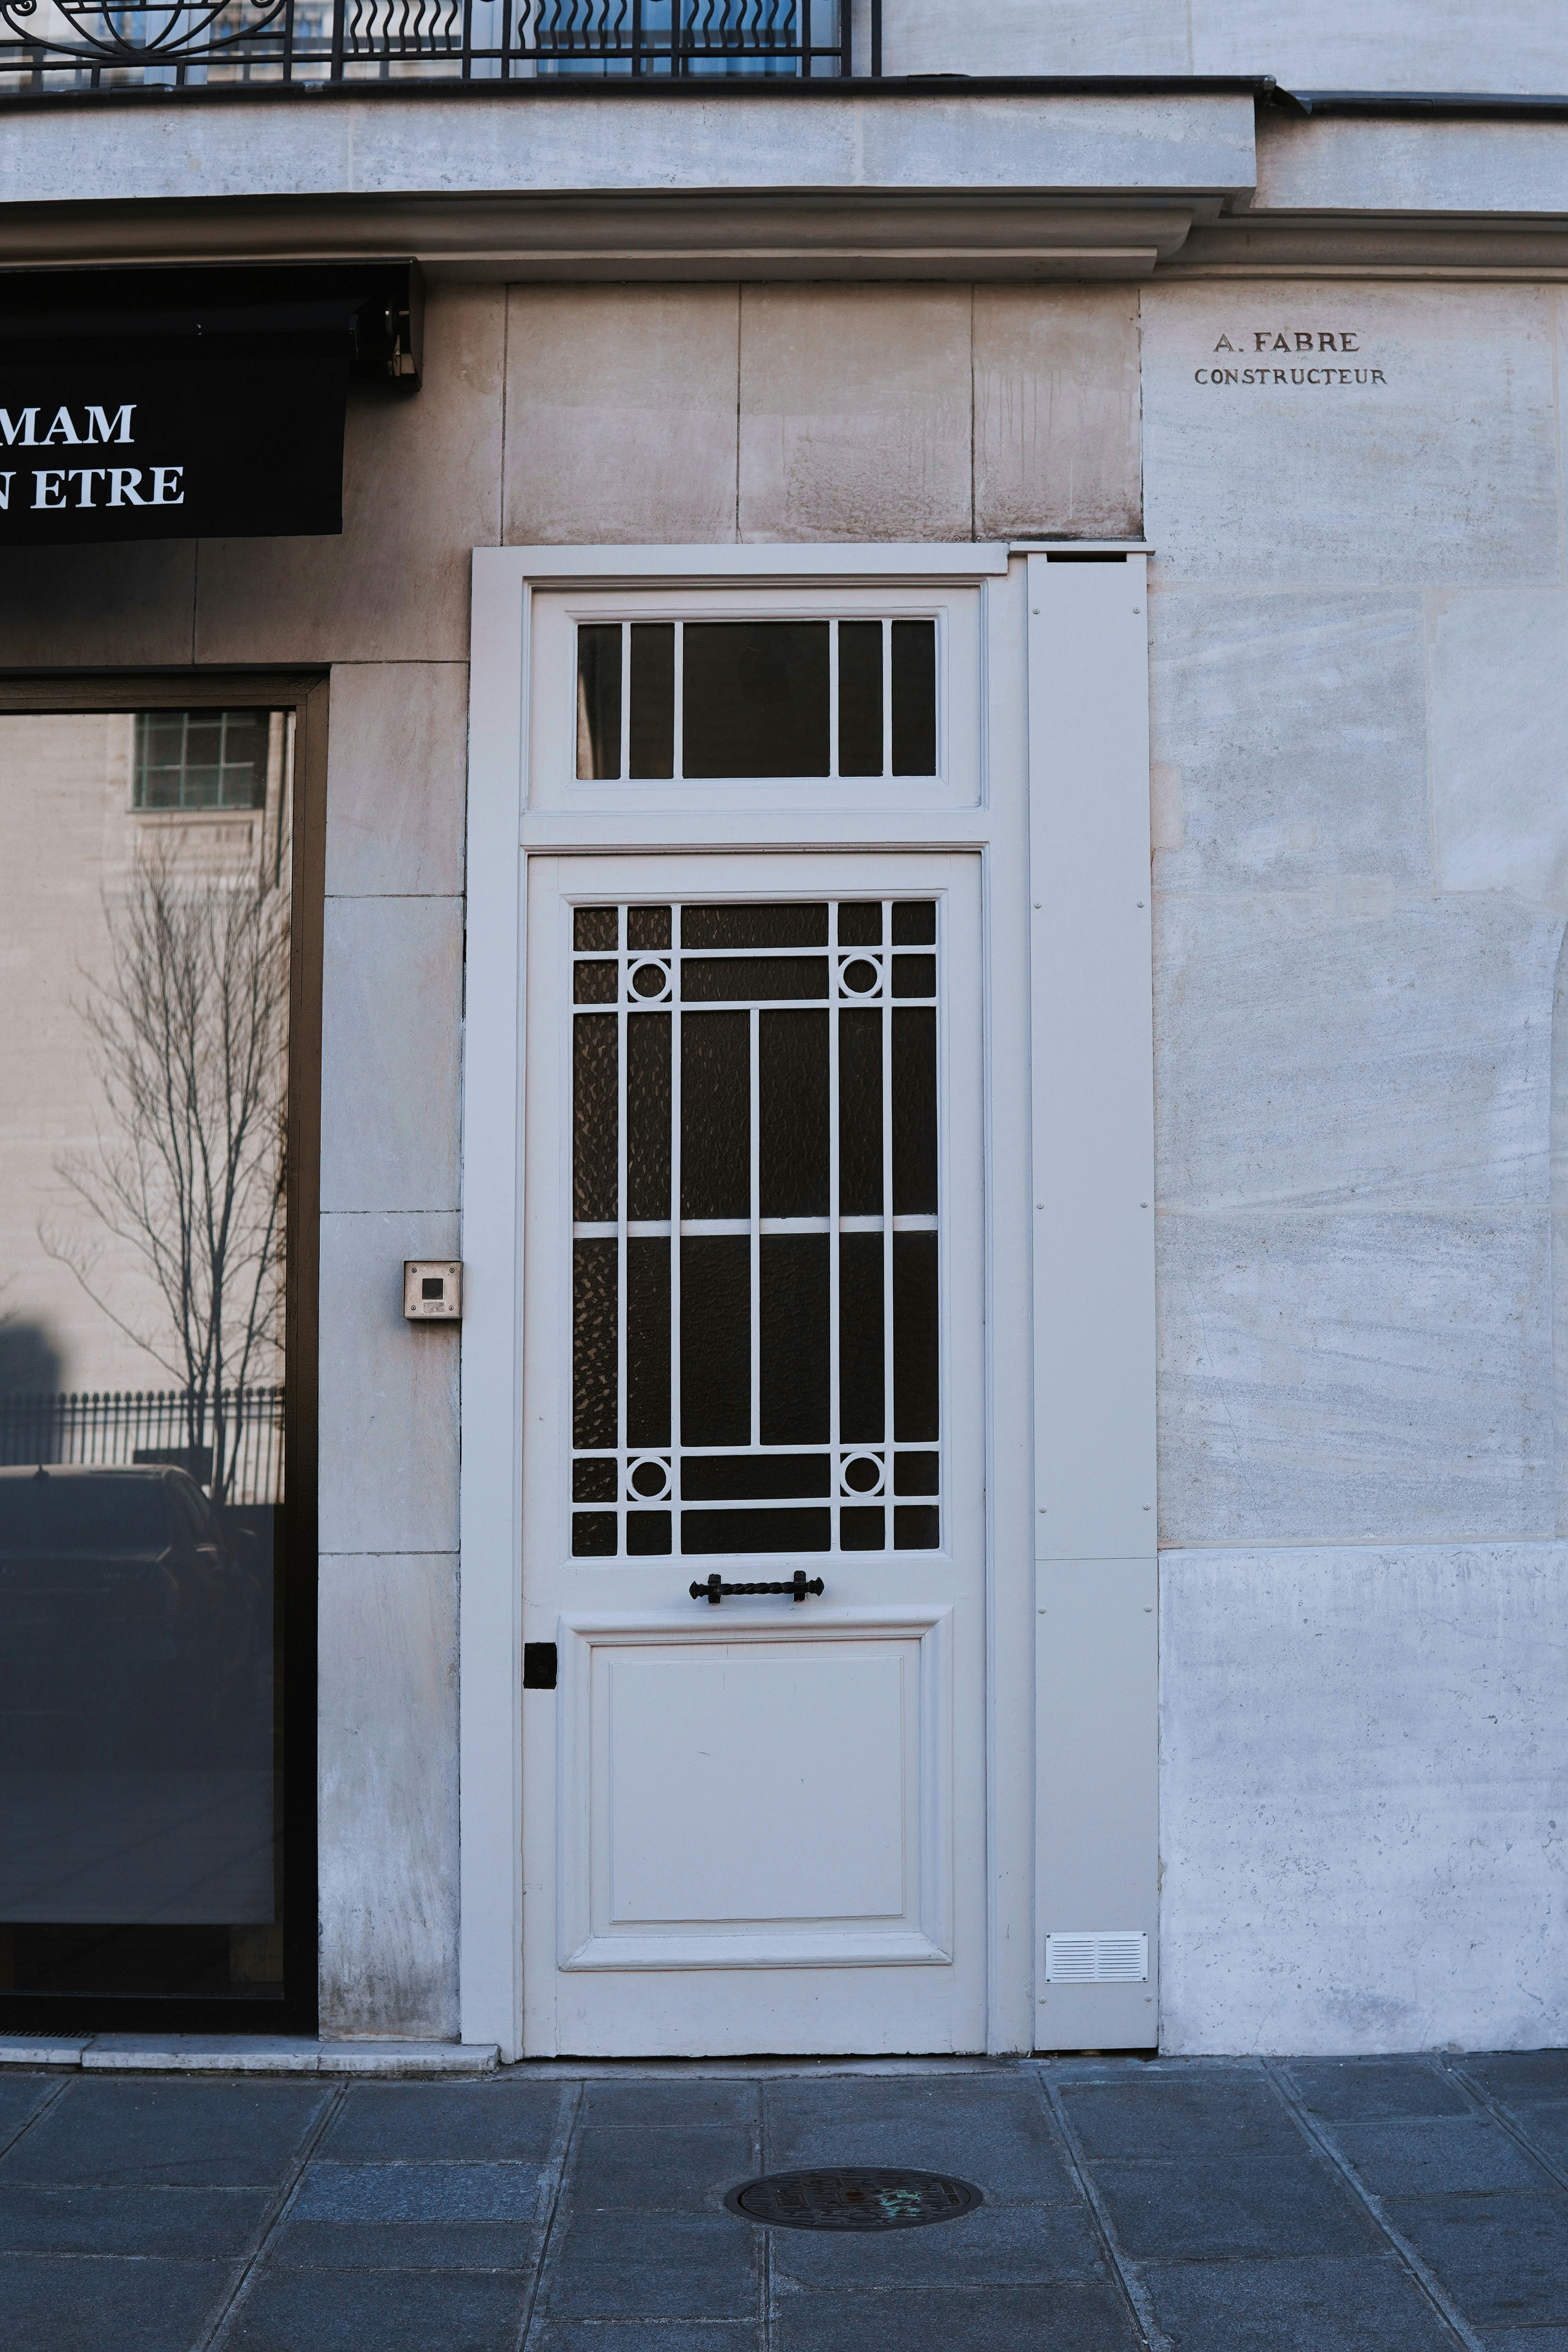door: (410, 504, 1240, 2089)
